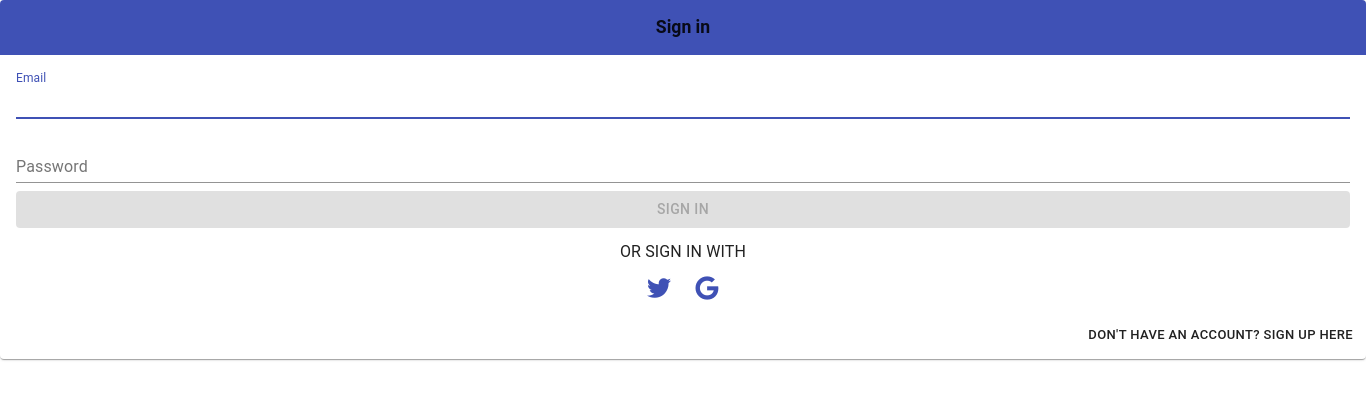
Login card › login with google › should display an error if login failed
The image size is (1366, 410).
Click the button named "Login with google".
click(707, 288)  # box [683,264,731,312]
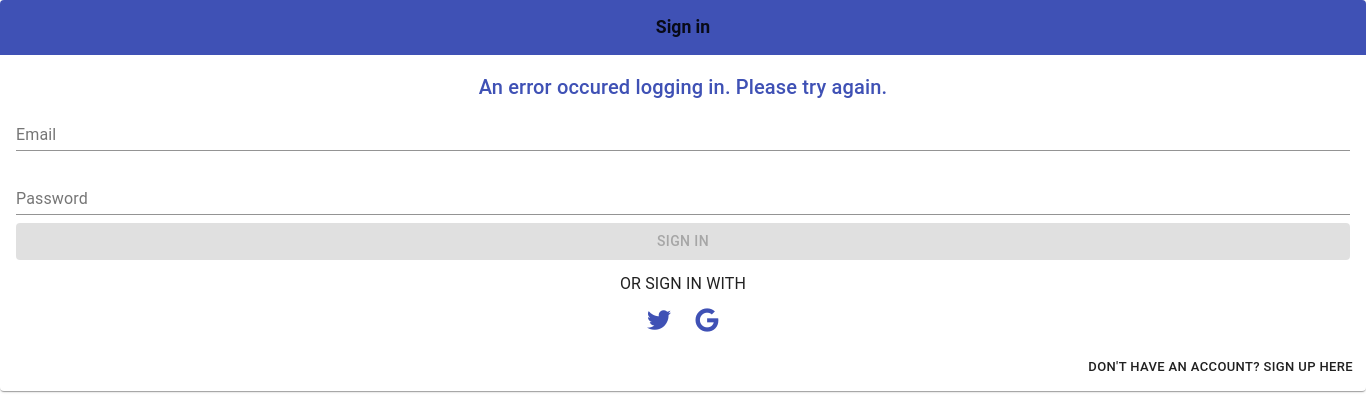
Check: the button named "Login with google" is enabled, box [683,296,731,344]
Check: the heading "An error occured logging in. Please try again." is shown, box [479,76,887,100]
